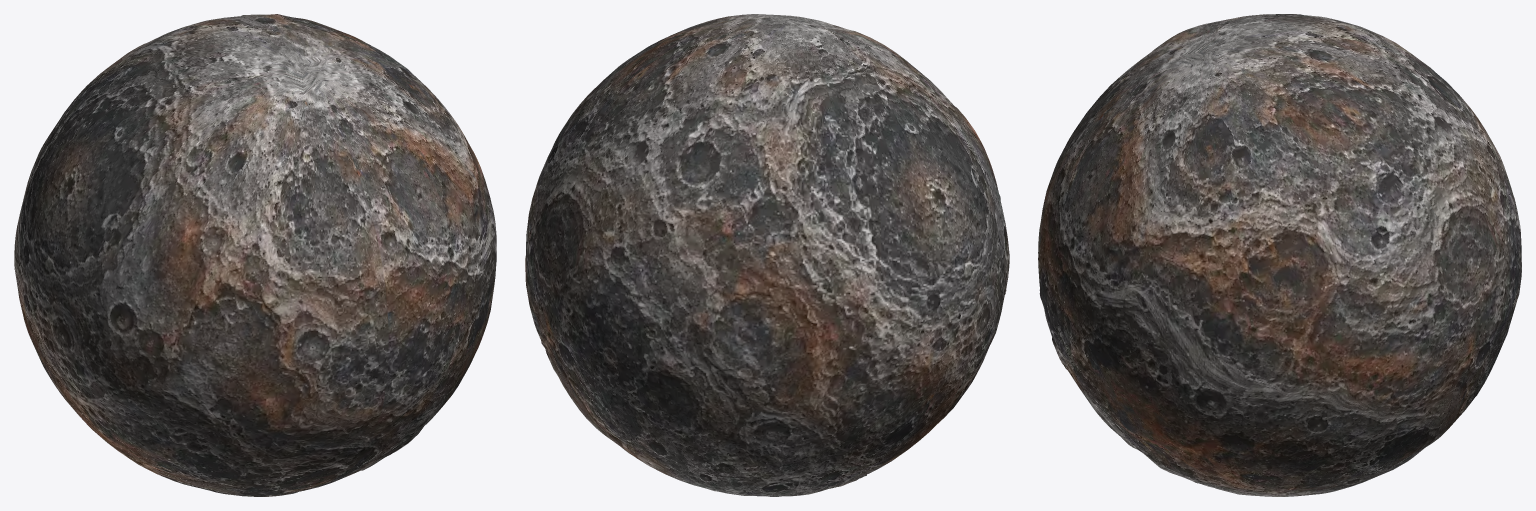
The model's file is planet_10.glb.
3 renders of one model, left to right at view 1: azimuth 30°, elevation 25°; view 2: azimuth 150°, elevation 25°; view 3: azimuth 270°, elevation 25°, orthographic.
Visible parts, largest first — view 1: Mesh_0.001; view 2: Mesh_0.001; view 3: Mesh_0.001.
Part boxes in pixels (x1,y1,x2,y2): Mesh_0.001: [14, 14, 496, 496]; Mesh_0.001: [525, 14, 1009, 496]; Mesh_0.001: [1038, 14, 1521, 496].
Size of the model in its own units: 1.9 by 1.9 by 1.9.
1 material, 1 textured.
